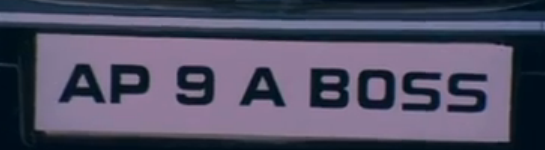numberplate: (32, 32, 514, 144)
